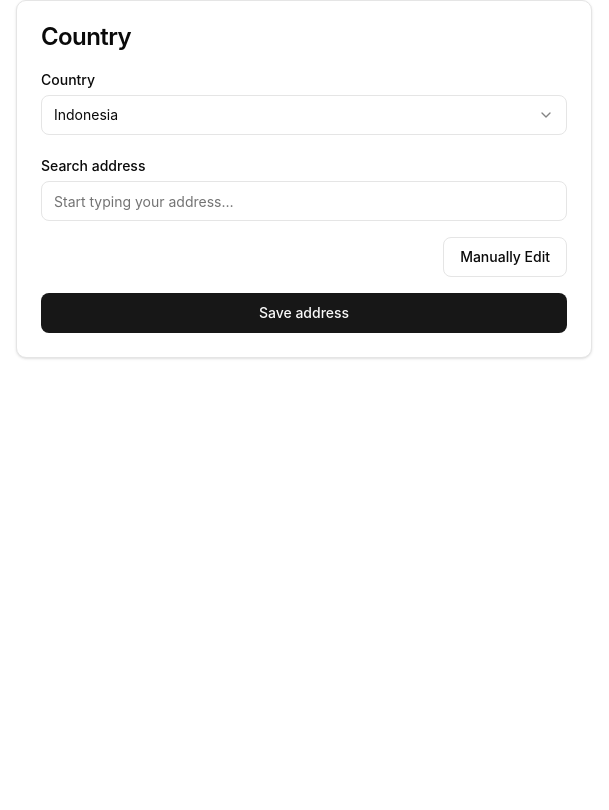
Test: AddressForm — manual mode renders the right fields per country (US2) › renders the IDN field set
Click the button "Manually Edit" at (505, 257), box [443, 237, 567, 277]
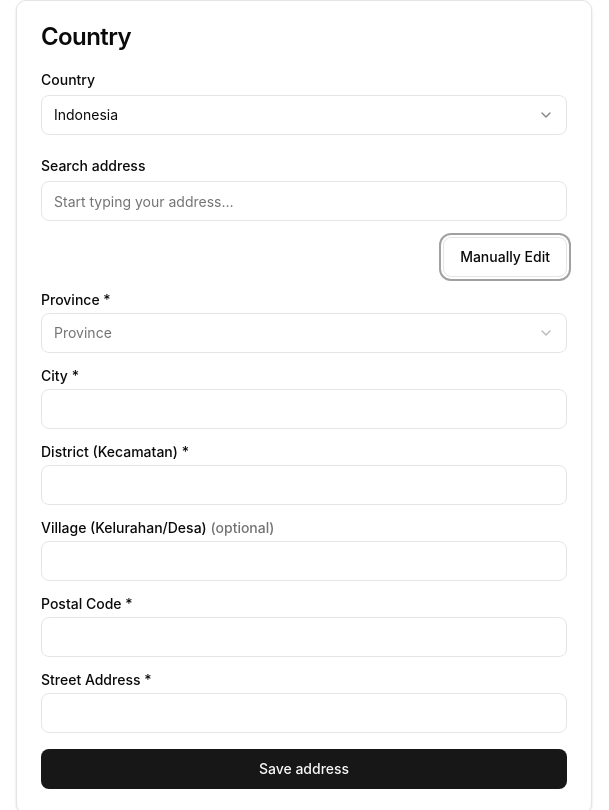
Now the dropdown labelled "Province" is shown, box [41, 313, 567, 353]
Now the field labelled "District (Kecamatan) *" is shown, box [41, 465, 567, 505]
Now the field labelled "Postal Code *" is shown, box [41, 617, 567, 657]
